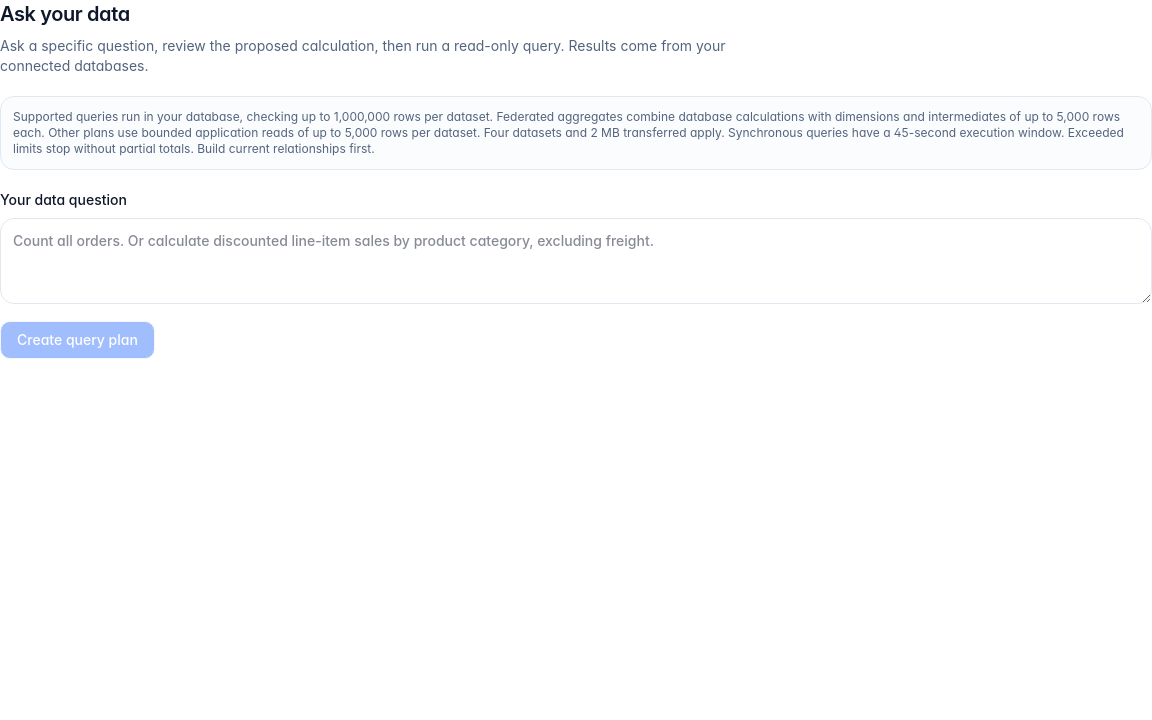
Test: shows the physical strategy and actual transfer evidence
The image size is (1152, 720).
Replace the text in the text box labelled "Your data question" with "Count orders" at (576, 261), box [0, 218, 1151, 304]
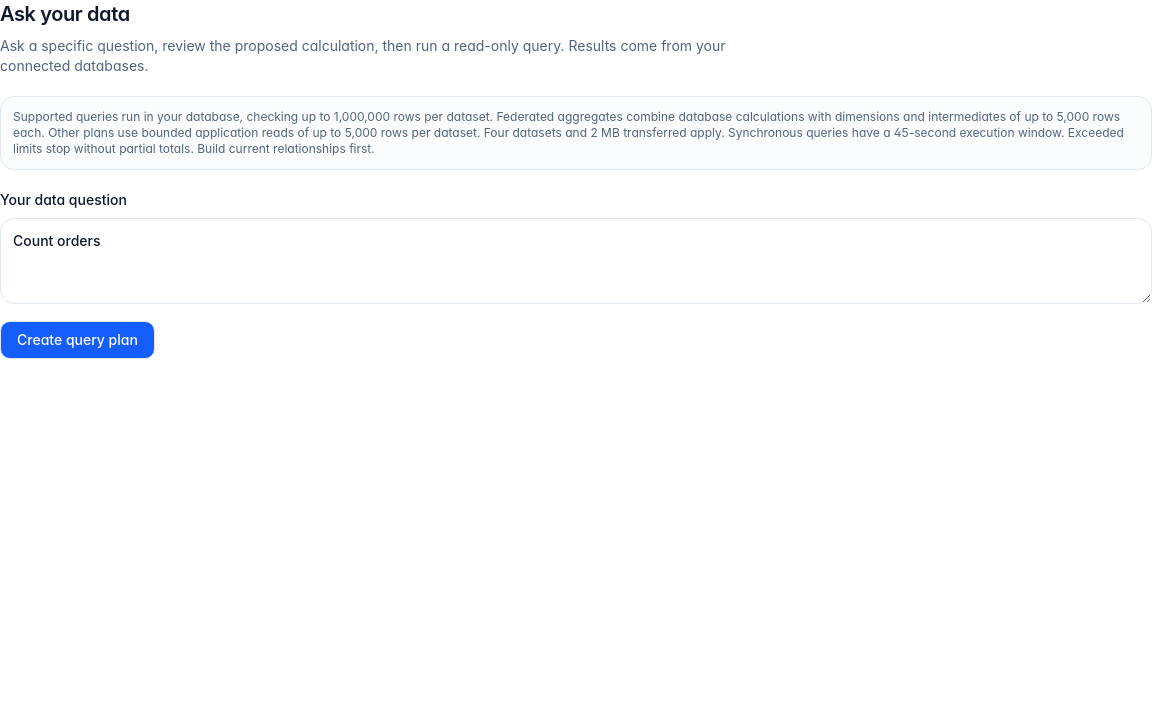
Expected: the button "Create query plan" is enabled
Click the button "Create query plan" at (77, 340), box [0, 321, 155, 359]
(page scrolled)
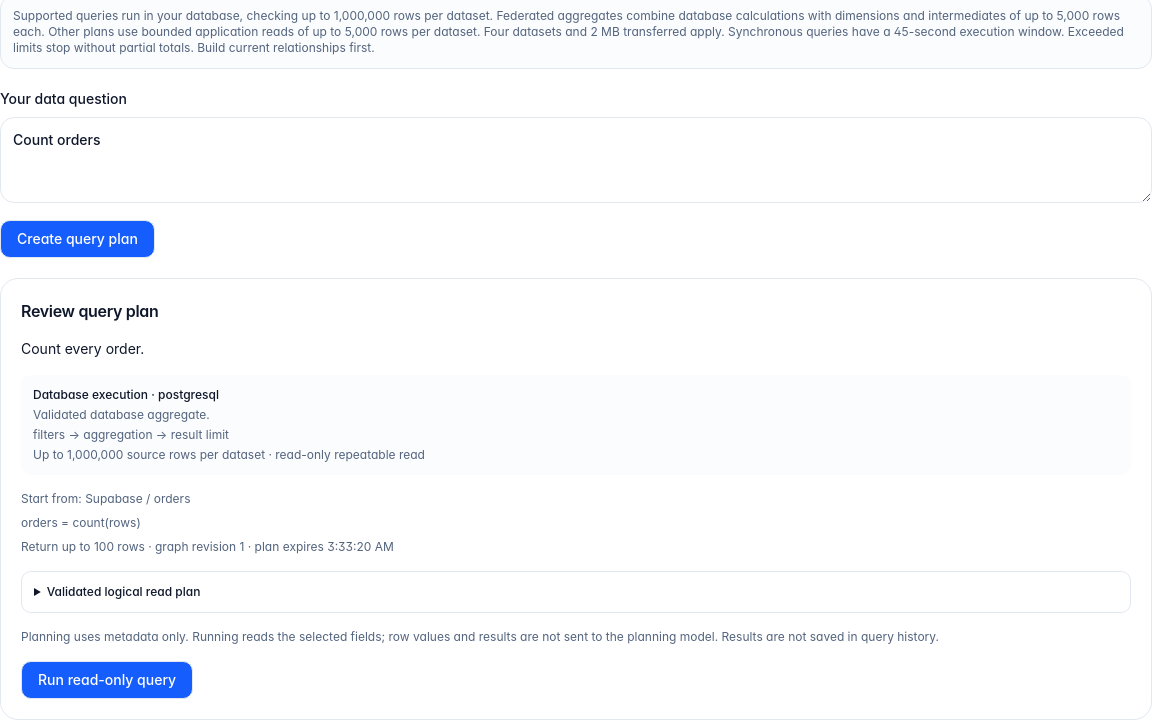
Expected: the element named "Execution plan" shows "Validated database aggregate.", [33, 407, 210, 422]
Click the button "Run read-only query" at (107, 680), box [21, 661, 193, 699]
(page scrolled)
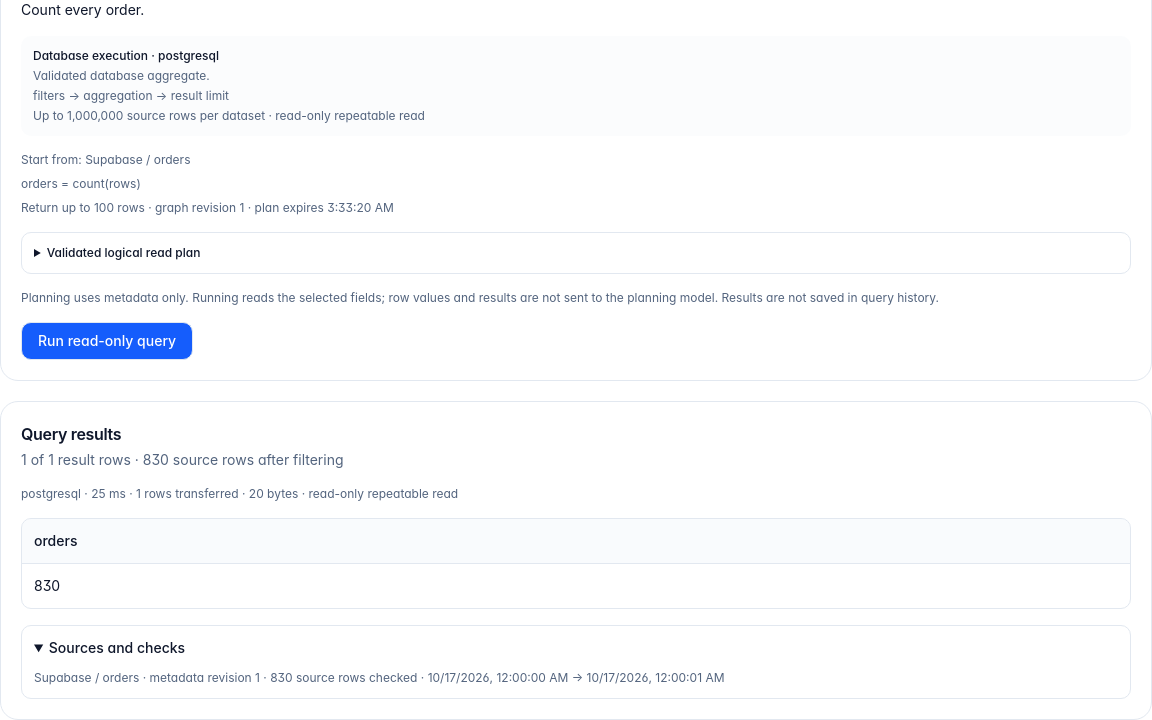
Expected: the text named "Execution evidence" shows "1 rows transferred", [21, 486, 458, 501]
